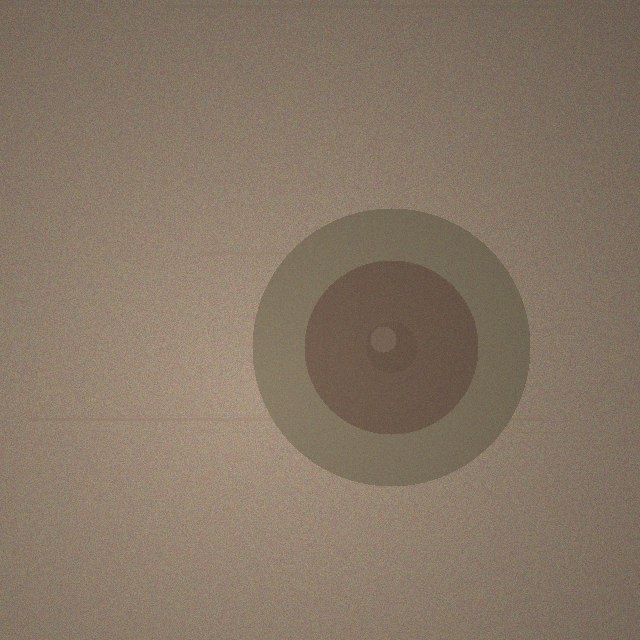good: (252, 208, 530, 486)
